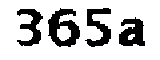3: (9, 6, 44, 51)
5: (84, 4, 113, 51)
6: (46, 6, 83, 49)
a: (117, 17, 148, 52)
